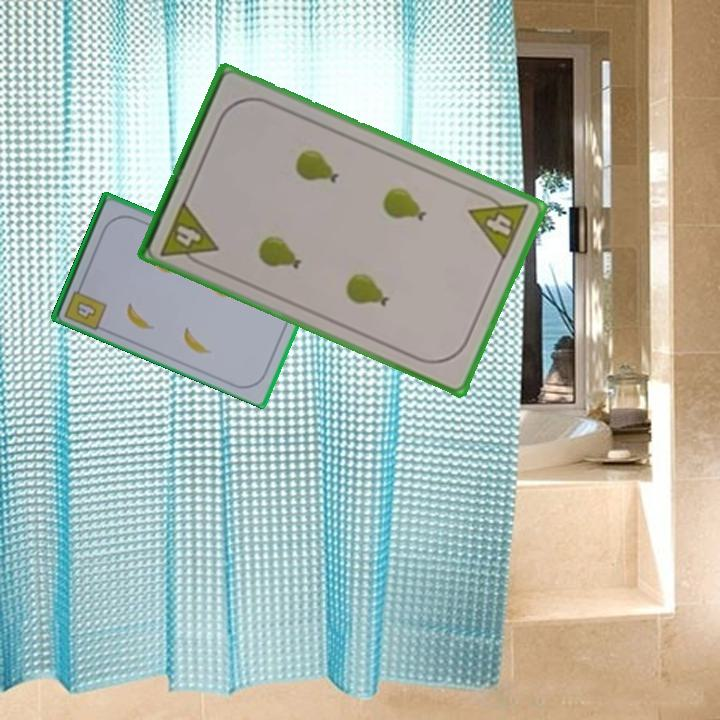4b: (61, 279, 109, 333)
4p: (465, 187, 532, 263), (157, 197, 221, 271)
